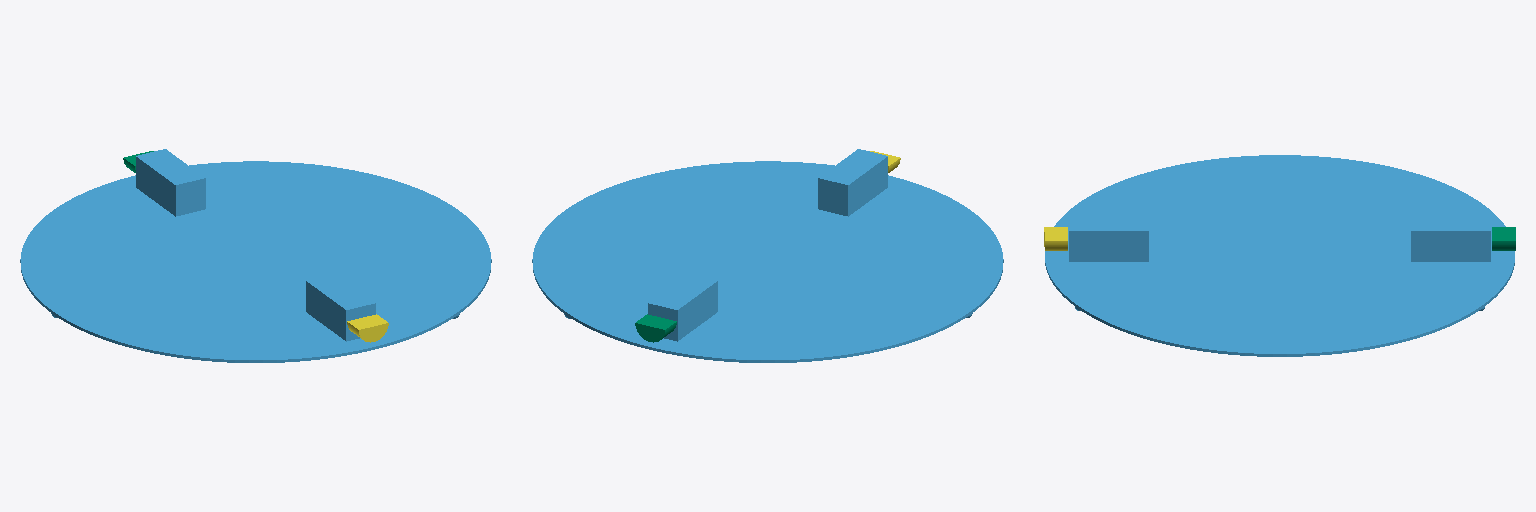
URDF robot description (microrobot):
<?xml version="1.0" ?>
<!-- =================================================================================== -->
<!-- |    This document was autogenerated by xacro from microbot.urdf.xacro            | -->
<!-- |    EDITING THIS FILE BY HAND IS NOT RECOMMENDED                                 | -->
<!-- =================================================================================== -->
<robot name="microrobot">
  <link name="base_link">
    </link>
  <joint name="platform_joint" type="fixed">
    <parent link="base_link"/>
    <child link="platform_link"/>
  </joint>
  <!-- PLATFORM LINK -->
  <link name="platform_link">
    <inertial>
      <mass value="122"/>
      <inertia ixx="0.144" ixy="0" ixz="0" iyy="0.083" iyz="0" izz="0.225"/>
    </inertial>
    <visual>
      <geometry>
        <mesh filename="package://microrobot/meshes/large_platform_mesh_001.stl"/>
      </geometry>
    </visual>
    <collision>
      <geometry>
        <mesh filename="package://microrobot/meshes/large_platform_mesh_001.stl"/>
      </geometry>
    </collision>
  </link>
  <gazebo reference="platform_link">
    <mu1 value="0.4"/>
    <mu2 value="0.4"/>
    <material>Gazebo/White</material>
  </gazebo>
  <!-- LEFT ECCENTER LINK -->
  <joint name="platform_to_left_eccenter_joint" type="continuous">
    <origin rpy="0 0 0" xyz="0 0.057 0.008"/>
    <parent link="platform_link"/>
    <child link="left_eccenter_link"/>
    <axis xyz="0 1 0"/>
    <dynamics damping="0.0005" friction="0.0"/>
  </joint>
  <transmission name="right_motor_transmition">
    <type>transmission_interface/SimpleTransmission</type>
    <joint name="platform_to_left_eccenter_joint">
      <hardwareInterface>EffortJointInterface</hardwareInterface>
    </joint>
    <actuator name="r_motor">
      <hardwareInterface>EffortJointInterface</hardwareInterface>
      <mechanicalReduction>1</mechanicalReduction>
    </actuator>
  </transmission>
  <link name="left_eccenter_link">
    <inertial>
      <origin rpy="0 0 0" xyz="0 0 -0.002"/>
      <mass value="1.825"/>
      <inertia ixx="7.94e-06" ixy="0" ixz="0" iyy="1.15e-05" iyz="0" izz="1.431e-05"/>
    </inertial>
    <visual>
      <origin rpy="0 0 0" xyz="0 0 -0.002"/>
      <geometry>
        <mesh filename="package://microrobot/meshes/large_eccenter_mesh_001.stl"/>
      </geometry>
    </visual>
    <collision>
      <origin rpy="0 0 0" xyz="0 0 -0.002"/>
      <geometry>
        <mesh filename="package://microrobot/meshes/large_eccenter_mesh_001.stl"/>
      </geometry>
    </collision>
  </link>
  <gazebo reference="left_eccenter_link">
    <material>Gazebo/Blue</material>
  </gazebo>
  <!-- RIGHT ECCENTER LINK -->
  <joint name="platform_to_right_eccenter_joint" type="continuous">
    <origin rpy="0 0 -3.14" xyz="0 -0.057 0.008"/>
    <parent link="platform_link"/>
    <child link="right_eccenter_link"/>
    <axis xyz="0 1 0"/>
    <dynamics damping="0.0005" friction="0.0"/>
  </joint>
  <transmission name="left_motor_transmition">
    <type>transmission_interface/SimpleTransmission</type>
    <joint name="platform_to_right_eccenter_joint">
      <hardwareInterface>EffortJointInterface</hardwareInterface>
    </joint>
    <actuator name="l_motor">
      <hardwareInterface>EffortJointInterface</hardwareInterface>
      <mechanicalReduction>1</mechanicalReduction>
    </actuator>
  </transmission>
  <link name="right_eccenter_link">
    <inertial>
      <origin rpy="0 0 0" xyz="0 0 -0.002"/>
      <mass value="1.825"/>
      <inertia ixx="7.94e-06" ixy="0" ixz="0" iyy="1.15e-05" iyz="0" izz="1.431e-05"/>
    </inertial>
    <visual>
      <origin rpy="0 0 0" xyz="0 0 -0.002"/>
      <geometry>
        <mesh filename="package://microrobot/meshes/large_eccenter_mesh_001.stl"/>
      </geometry>
    </visual>
    <collision>
      <origin rpy="0 0 0" xyz="0 0 -0.002"/>
      <geometry>
        <mesh filename="package://microrobot/meshes/large_eccenter_mesh_001.stl"/>
      </geometry>
    </collision>
  </link>
  <gazebo reference="right_eccenter_link">
    <material>Gazebo/Blue</material>
  </gazebo>
  <gazebo>
    <plugin filename="libgazebo_ros_control.so" name="gazebo_ros_control">
      <robotNamespace>/MICROBOT</robotNamespace>
    </plugin>
  </gazebo>
</robot>

--- Render facts (derived) ---
3 views of the same robot in one strip: view 1: azimuth 30°, elevation 25°; view 2: azimuth 150°, elevation 25°; view 3: azimuth 270°, elevation 25° (orthographic).
Robot: microrobot — 4 links, 3 joints (2 continuous, 1 fixed); root link base_link; default pose: all joints at 0.
Visible links, largest first — view 1: platform_link, right_eccenter_link; view 2: platform_link, left_eccenter_link; view 3: platform_link, left_eccenter_link, right_eccenter_link.
Link boxes in pixels (left/top/right/bottom): platform_link: left=20, top=149, right=491, bottom=362; right_eccenter_link: left=347, top=314, right=388, bottom=342; platform_link: left=532, top=149, right=1003, bottom=362; left_eccenter_link: left=635, top=314, right=676, bottom=342; platform_link: left=1045, top=155, right=1514, bottom=356; left_eccenter_link: left=1492, top=227, right=1515, bottom=250; right_eccenter_link: left=1044, top=227, right=1067, bottom=250.
Bounding box of the posed robot: 0.12 × 0.12 × 0.0112 m (x, y, z).
Meshes: 2 distinct files referenced, 3 mesh visuals loaded (2 binary STL).